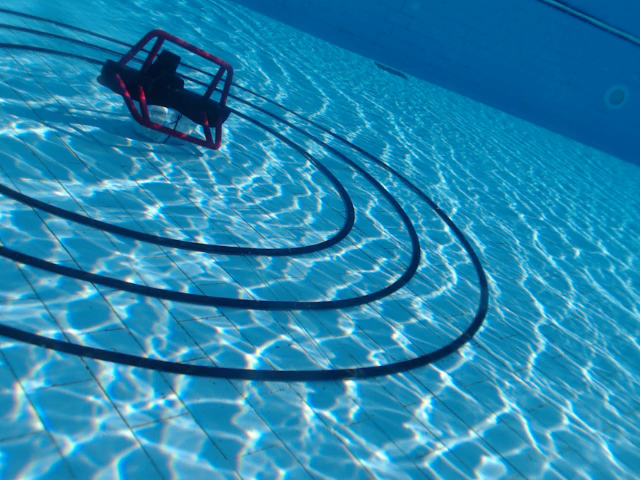submarine: (101, 28, 235, 154)
